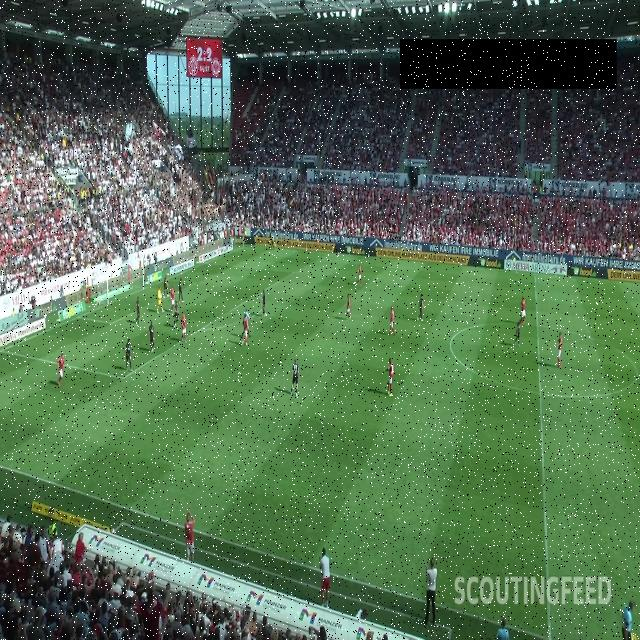Ball: (110, 528, 116, 536), (459, 262, 462, 266), (160, 294, 162, 298), (264, 244, 266, 248), (338, 252, 340, 256), (218, 246, 220, 249), (306, 248, 308, 251), (193, 256, 195, 258), (162, 268, 163, 271)
GoalKeeper: (157, 286, 165, 314)
Referee: (620, 599, 638, 640), (242, 308, 252, 338), (270, 231, 277, 251)
TEAM 1: (384, 358, 393, 398), (57, 354, 66, 386), (242, 313, 249, 347), (388, 307, 396, 336), (557, 333, 562, 370), (181, 314, 187, 343), (346, 293, 352, 319), (521, 296, 526, 325), (170, 287, 176, 310), (357, 264, 362, 287)
TEAM 2: (290, 358, 300, 398), (125, 340, 133, 373), (147, 322, 155, 354), (418, 294, 426, 324), (514, 320, 522, 348), (178, 278, 185, 305), (173, 301, 180, 327), (163, 274, 170, 299), (261, 290, 267, 318), (135, 296, 140, 324)
